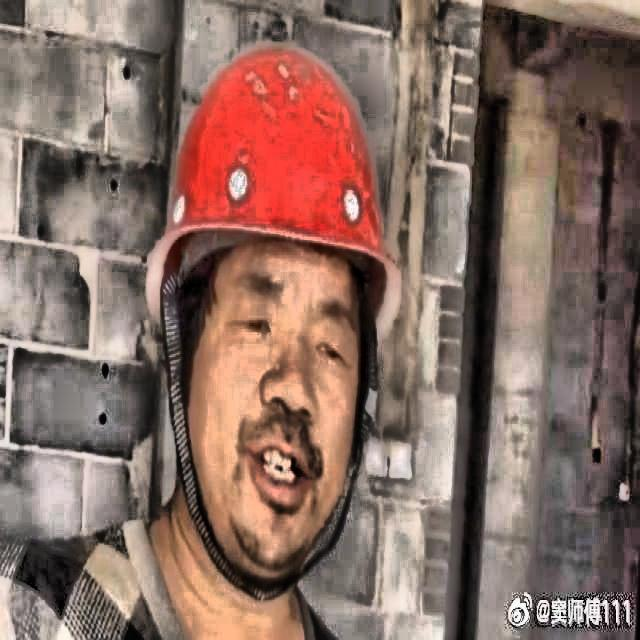person: (57, 40, 456, 640)
